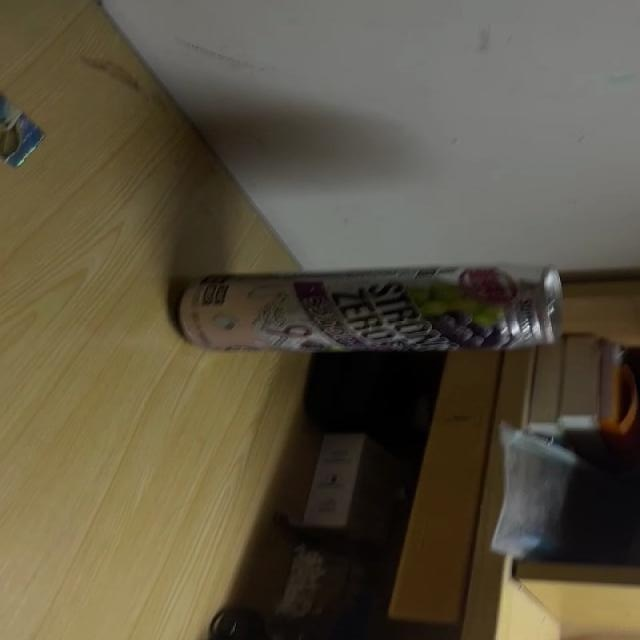Liquor: (175, 266, 562, 350)
